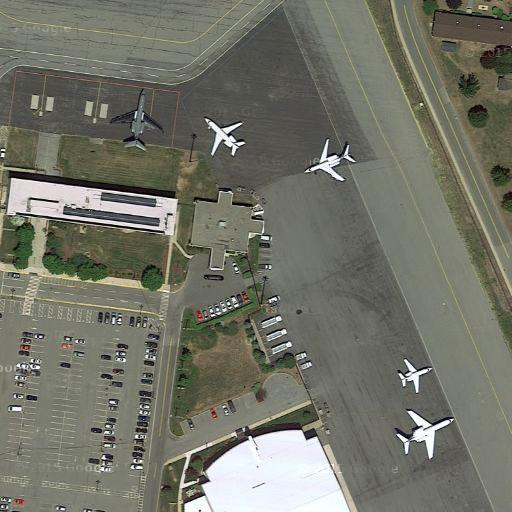B-1B: (108, 82, 168, 152)
plane: (394, 406, 455, 461), (301, 134, 362, 187), (197, 114, 251, 161), (392, 354, 438, 396)
